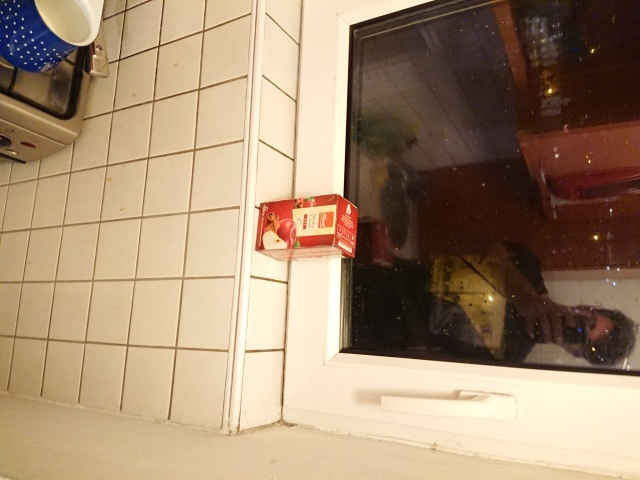Franck Apple Cinnamon Tea 60g: (251, 191, 361, 264)
